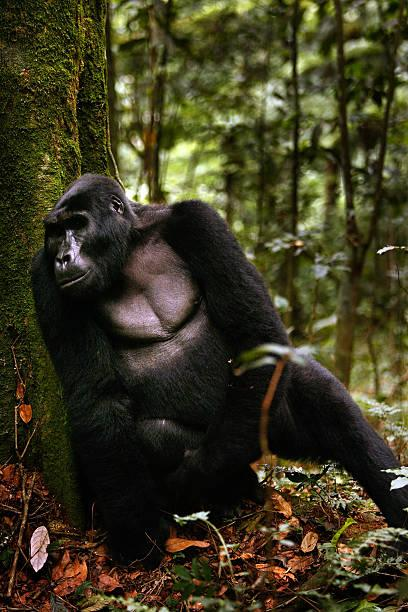goriile_montagne: (23, 135, 408, 538)
